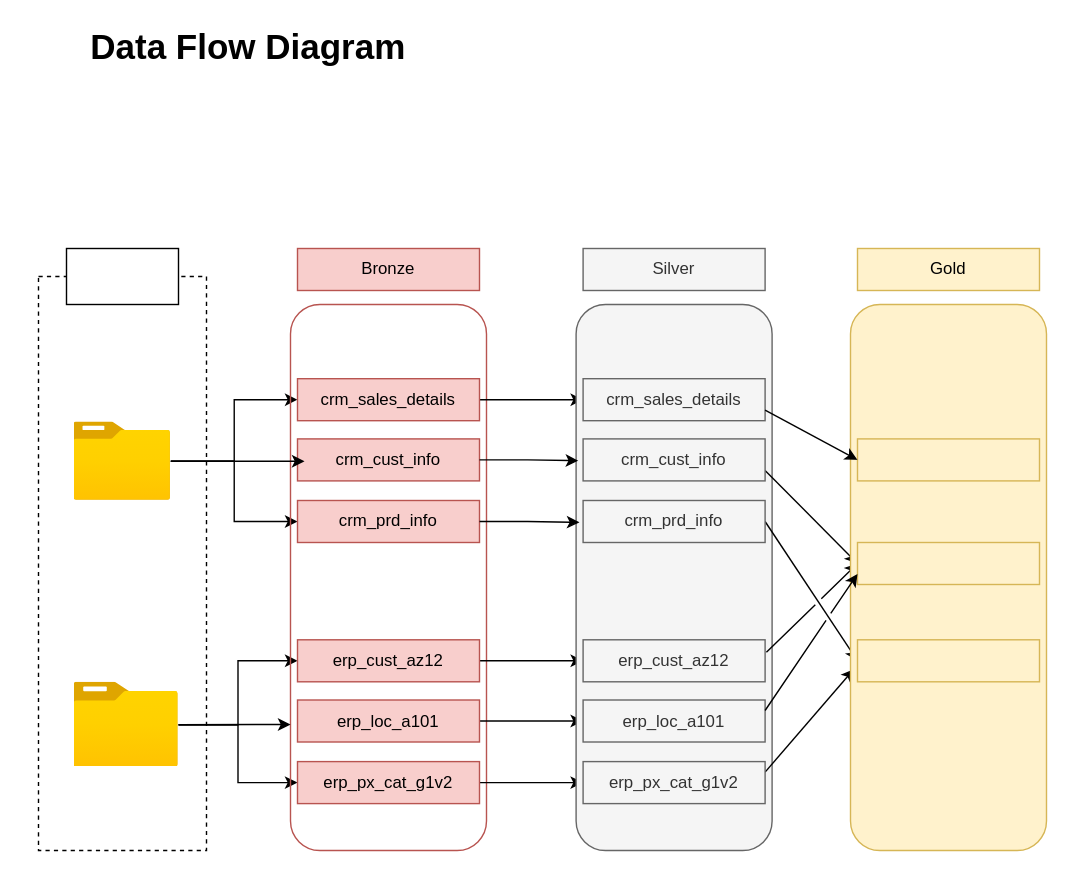
Image size: 1071x875. Some labels were removed from this diagram. Each missing label, with the box of its shape:
CRM: (74, 421, 170, 500)
dim_customers: (856, 541, 1040, 584)
dim_products: (856, 638, 1040, 682)
ERP: (74, 682, 178, 766)
fact_sales: (856, 438, 1040, 481)
Source: (65, 247, 178, 304)
